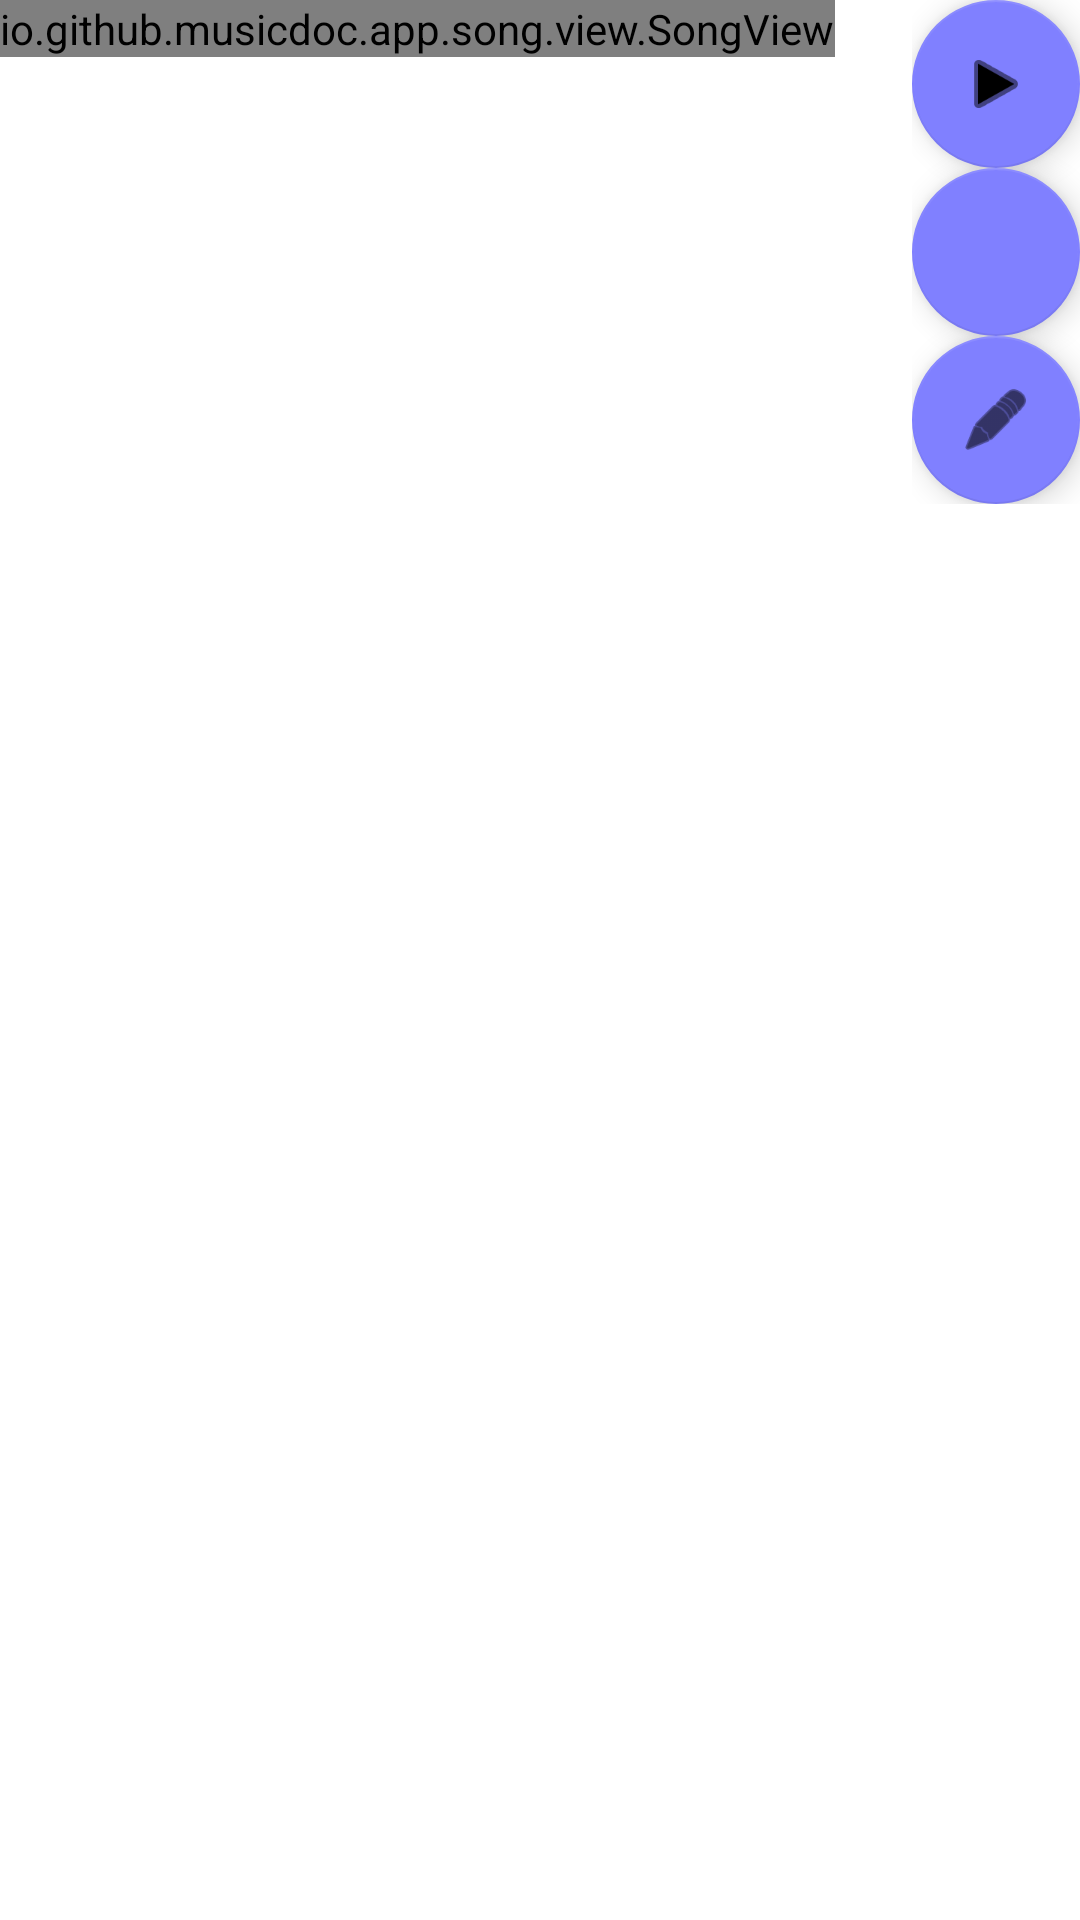

Named icons in this screenshot (1080 × 1920) and their bounding boxes, (x1, y1, x2, y2):
edit: (912, 336, 1080, 504)
play: (912, 0, 1080, 168)
